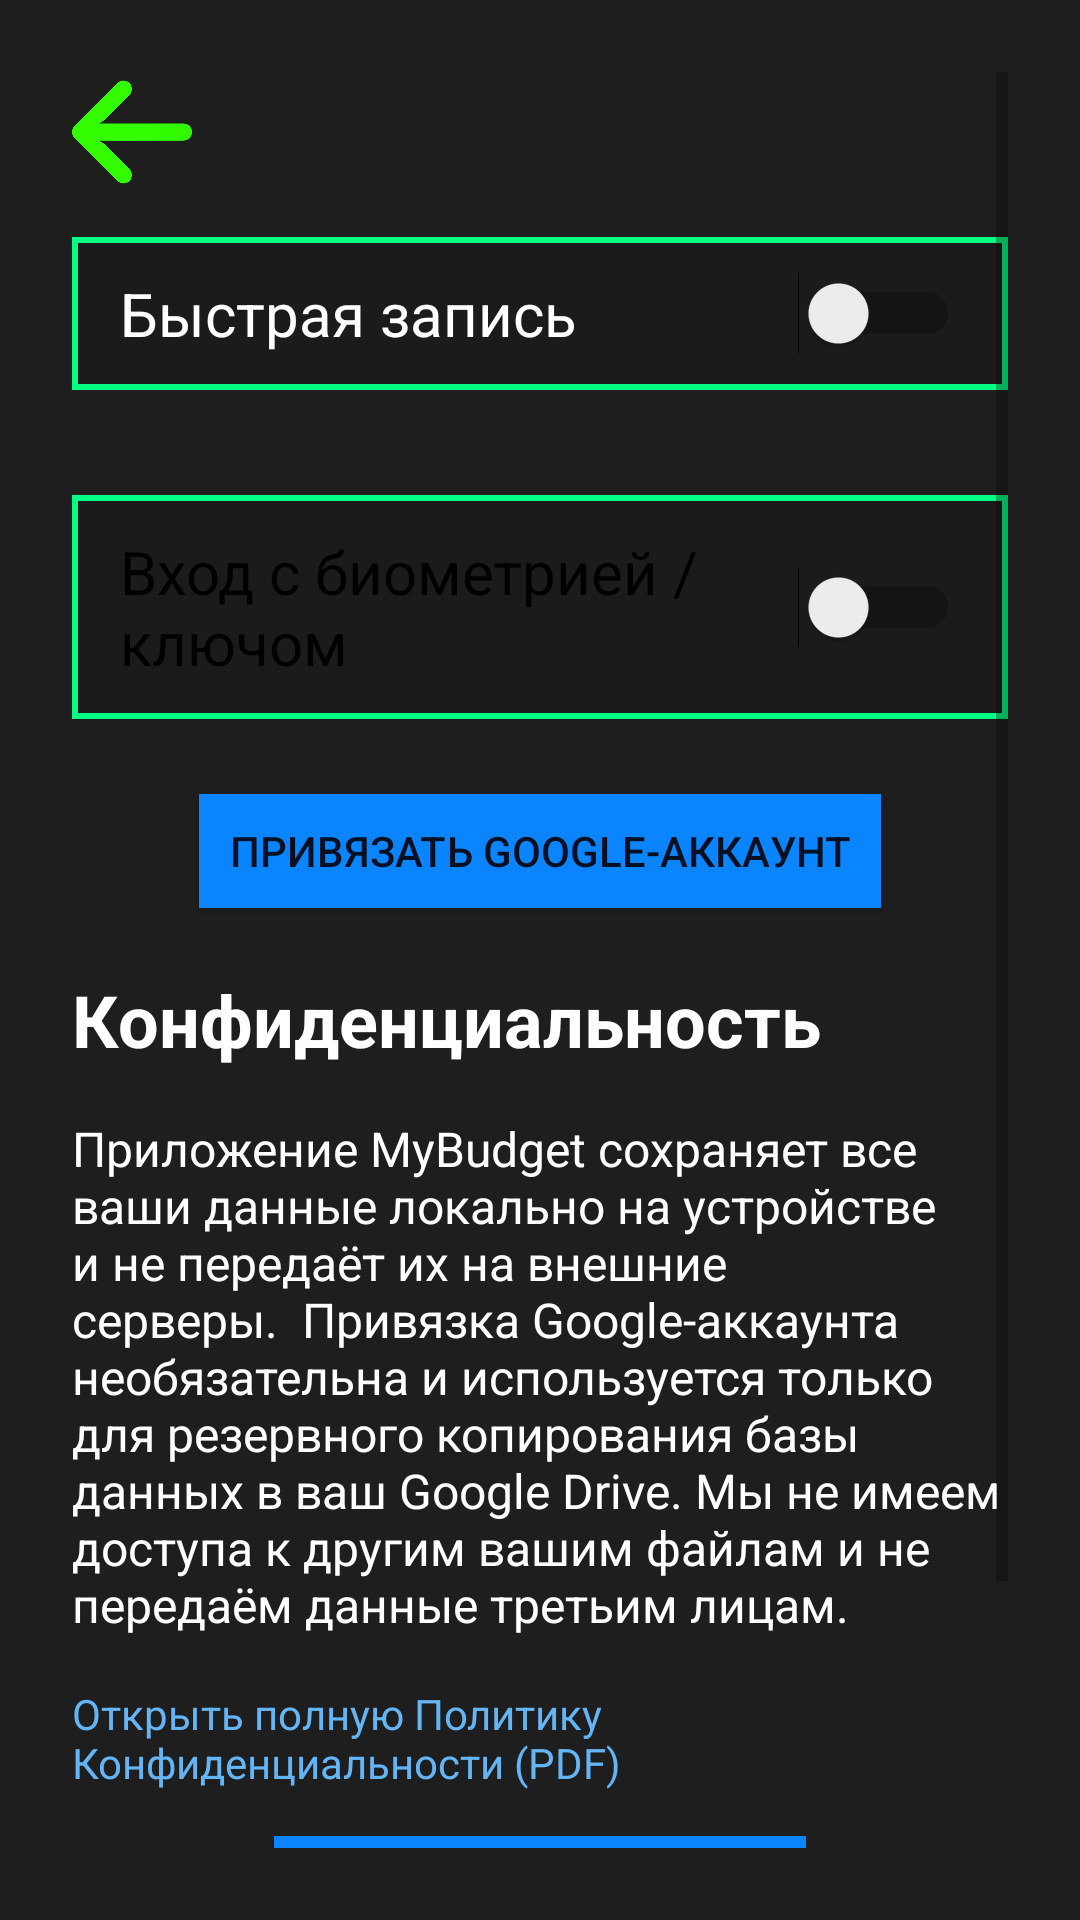

Locate icon controls on the screen. Image size 1080w x 1920h, boxes as Rect(x1, y1, x2, y2).
arrow: Rect(72, 80, 192, 184)
